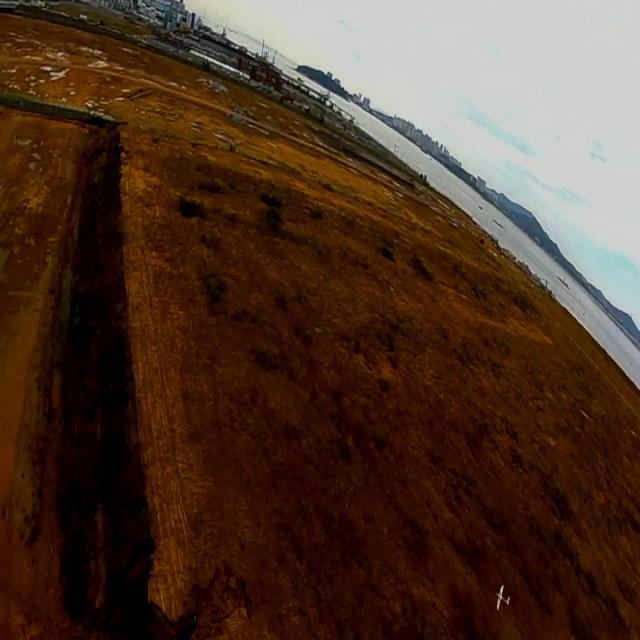iha: (483, 578, 525, 617)
